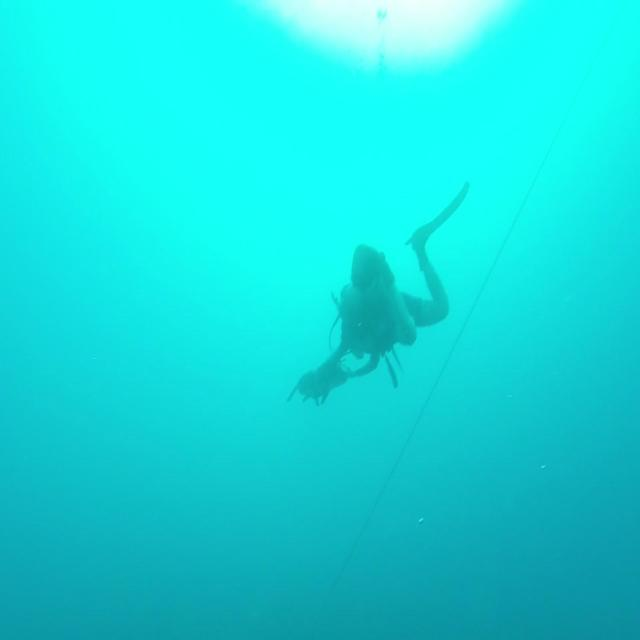human: (287, 178, 470, 407)
